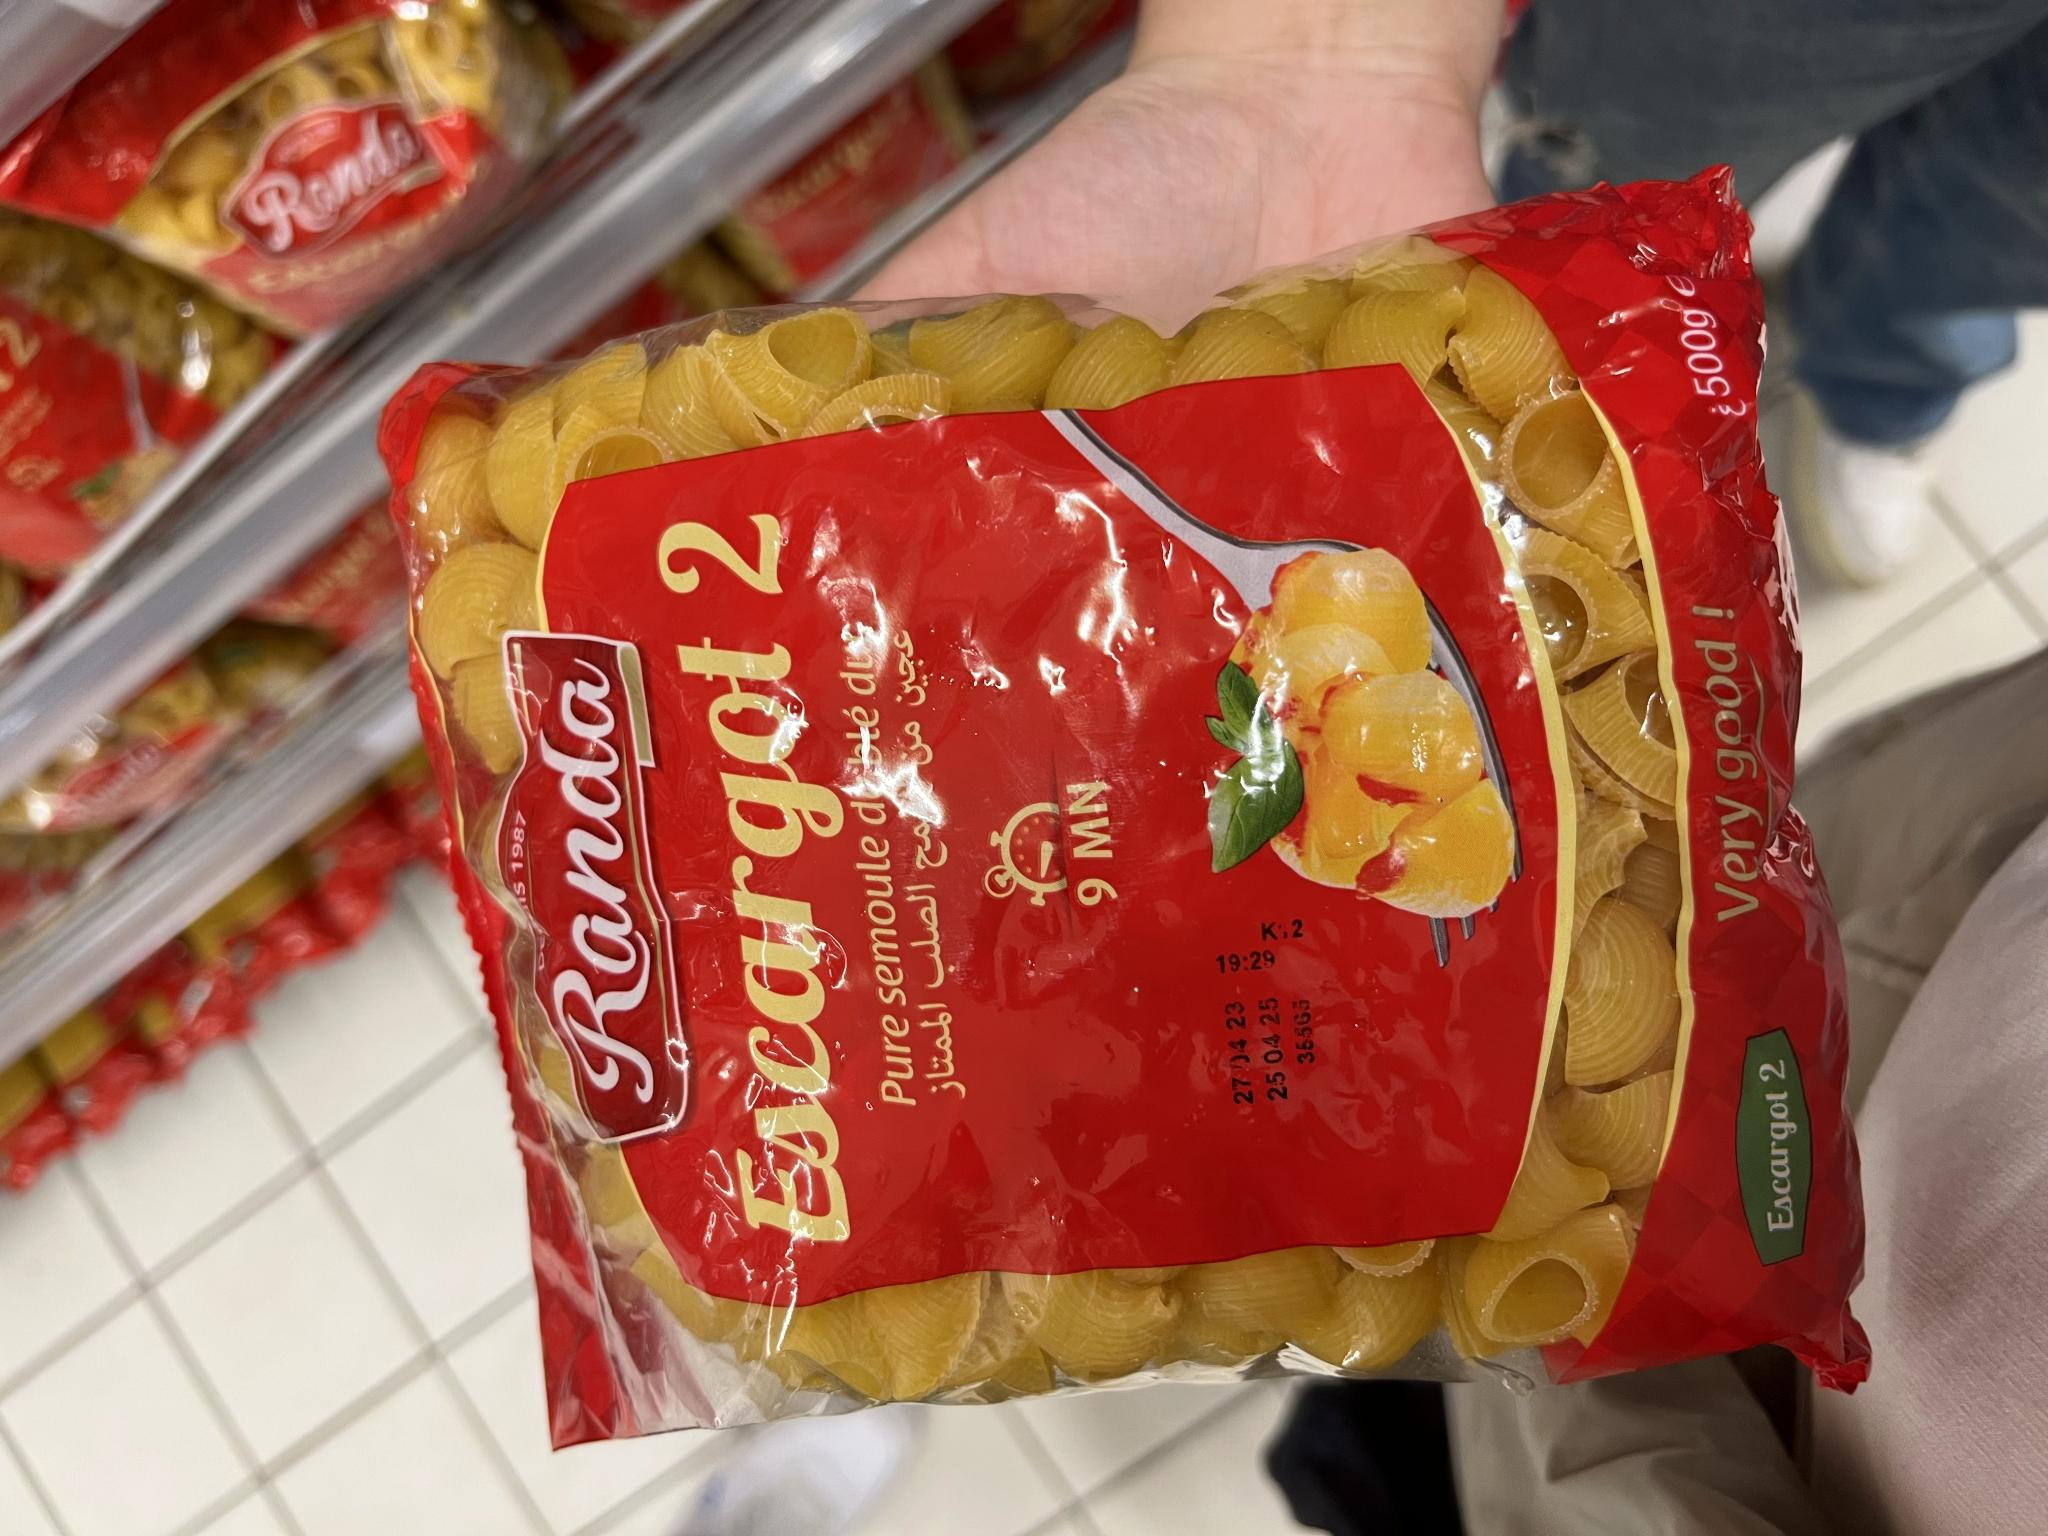Escargot: (423, 208, 1850, 1452)
